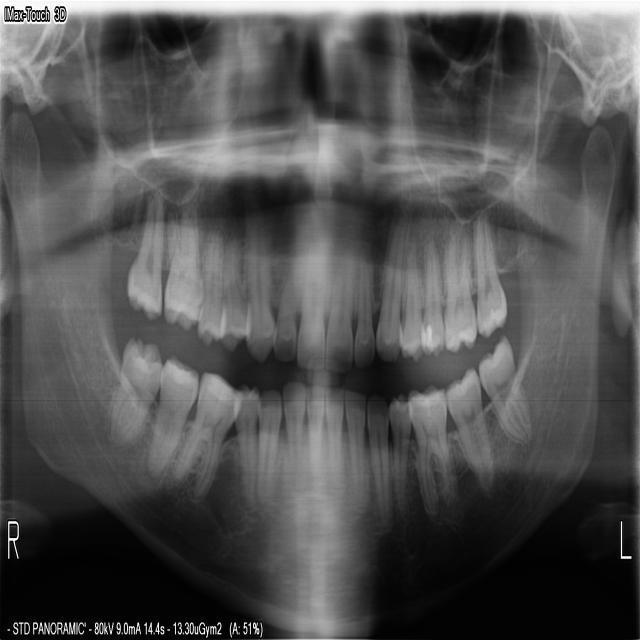LCD: (366, 388, 393, 518)
LCU: (376, 227, 409, 365)
LID: (344, 387, 369, 507), (324, 382, 346, 483)
LIU: (326, 248, 355, 375), (353, 252, 375, 368)
LMD: (443, 362, 498, 497), (407, 385, 461, 522), (476, 334, 535, 455)
LMU: (470, 212, 510, 340), (444, 222, 478, 355)
LPMD: (388, 395, 410, 520)
LPMU: (420, 237, 447, 357), (400, 234, 424, 364)
RCD: (256, 384, 282, 498)
RCU: (243, 217, 274, 362)
RID: (281, 378, 306, 478), (307, 380, 326, 465)
RIU: (296, 243, 328, 373), (274, 243, 302, 368)
RMD: (171, 370, 244, 502), (144, 348, 204, 480), (106, 323, 163, 452)
RMU: (123, 207, 165, 325), (161, 218, 204, 332)
RPMD: (234, 387, 257, 505)
RPMU: (198, 229, 225, 343), (219, 232, 243, 352)
